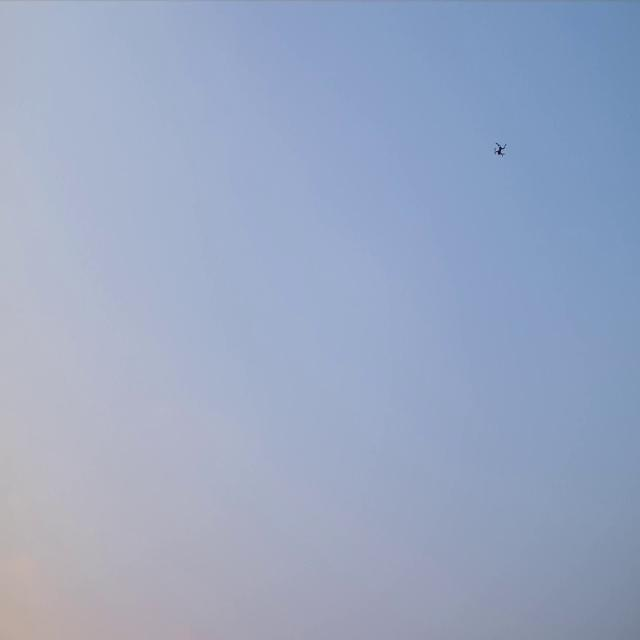UAV: (495, 143, 505, 155)
